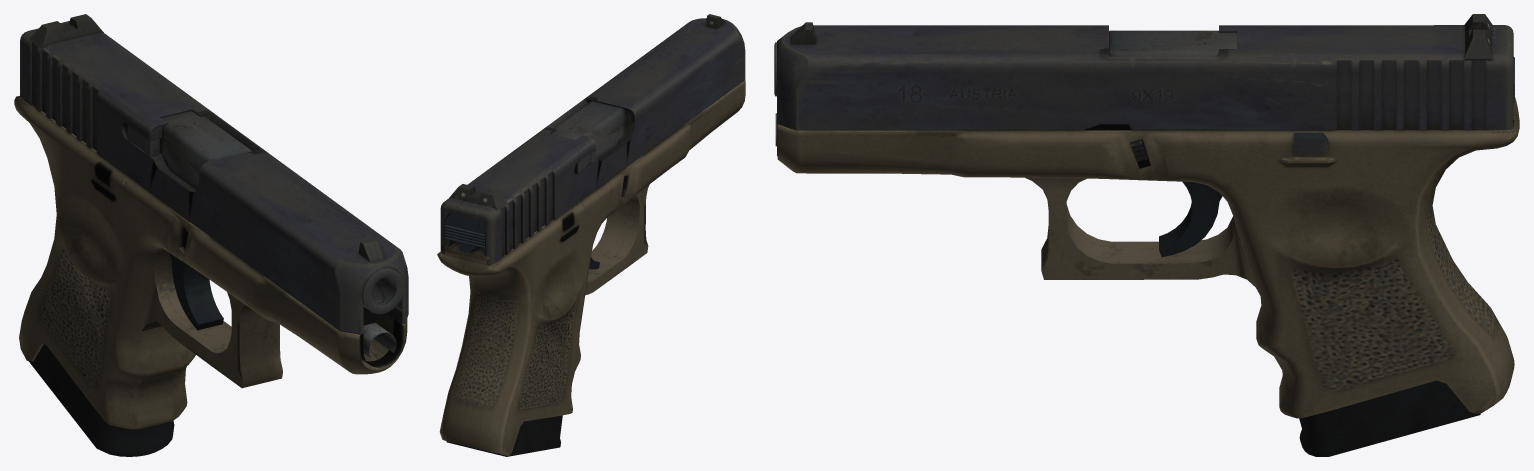
File: glock18.glb
3 renders of one model, left to right at view 1: azimuth 30°, elevation 25°; view 2: azimuth 150°, elevation 25°; view 3: azimuth 270°, elevation 25°, orthographic. The views are drawn at different scales.
Parts seen in each view (by area): view 1: glock18; view 2: glock18; view 3: glock18.
Boxes of the visible parts, x1=… form: glock18: x1=14, y1=14, x2=408, y2=456; glock18: x1=437, y1=14, x2=745, y2=456; glock18: x1=774, y1=14, x2=1519, y2=456.
Size of the model in its own units: 1.28 by 4.93 by 7.98.
1 material, 1 textured.
